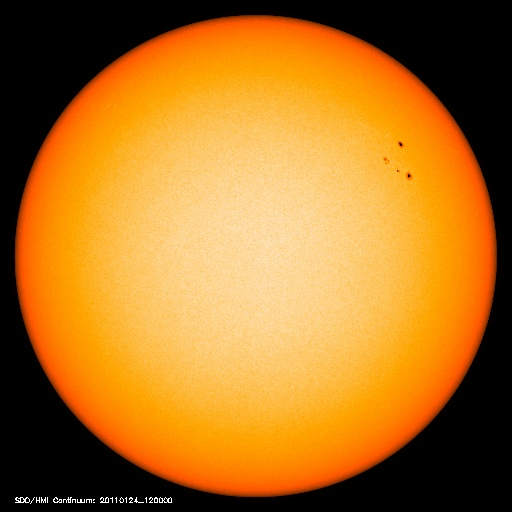sunspot: (378, 136, 416, 185)
